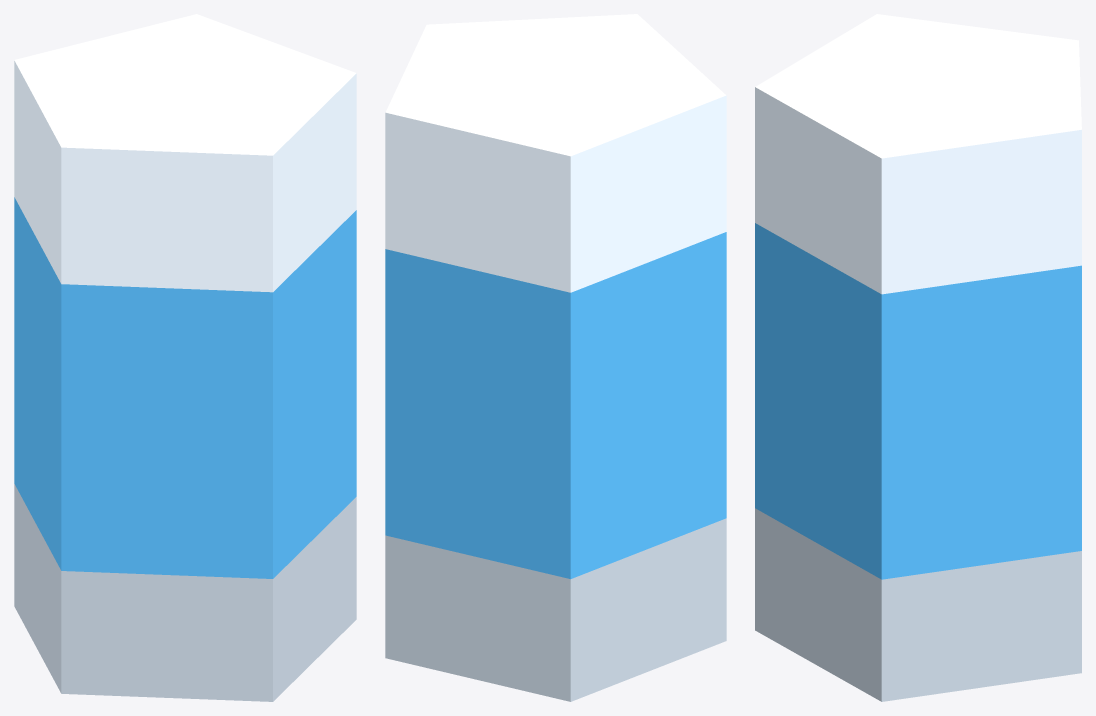
File: iron-can.glb
3 views of the same model, side by side, from view 1: azimuth 30°, elevation 25°; view 2: azimuth 150°, elevation 25°; view 3: azimuth 270°, elevation 25° (orthographic).
Visible parts, largest first — view 1: iron-can; view 2: iron-can; view 3: iron-can.
Part boxes in pixels (x1,y1,x2,y2): iron-can: (14,14,356,701); iron-can: (385,14,726,701); iron-can: (755,14,1081,701).
Size of the model in its own units: 0.1141 by 0.2 by 0.109.
